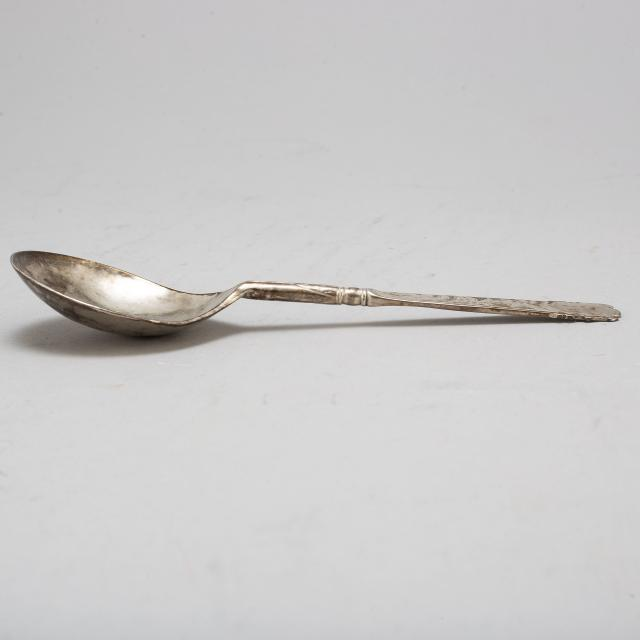spoon: (0, 212, 628, 357)
